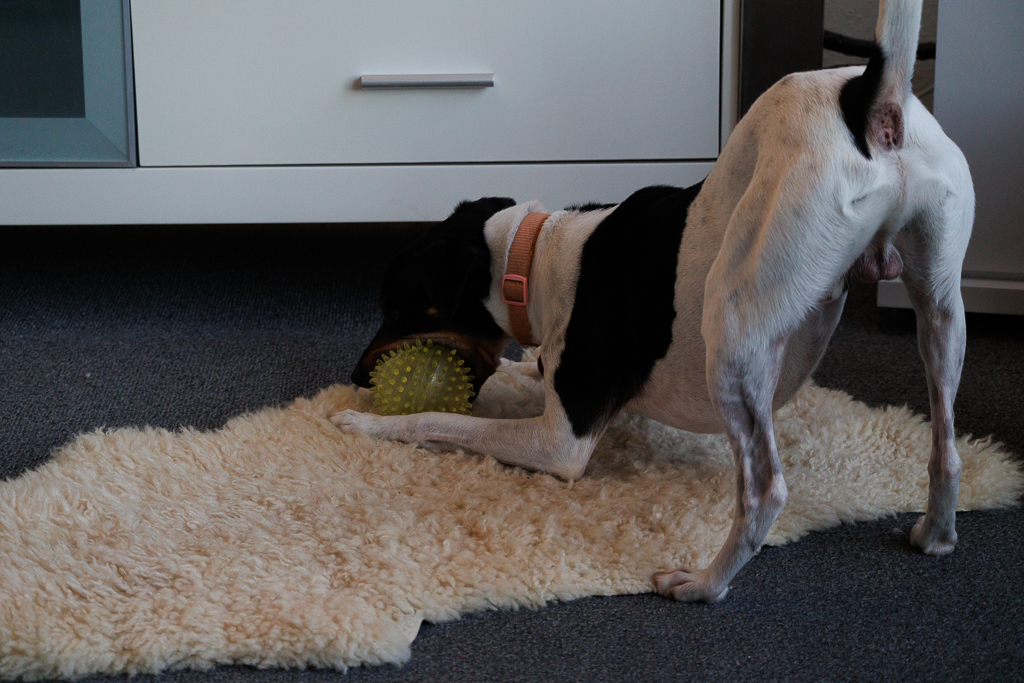Dog: (318, 0, 977, 610)
